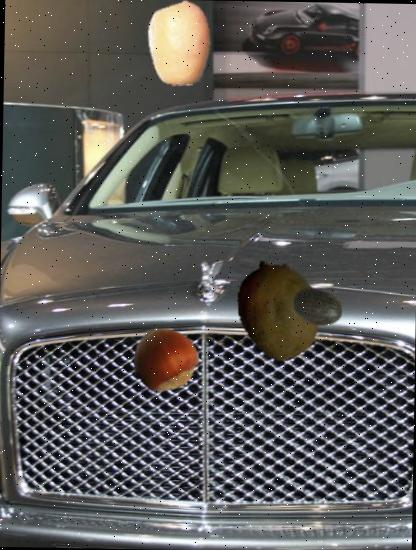Kumquats: (136, 0, 223, 87)
Melon: (291, 278, 345, 332)
Nut: (131, 326, 198, 393)
Papaya: (226, 259, 328, 361)
